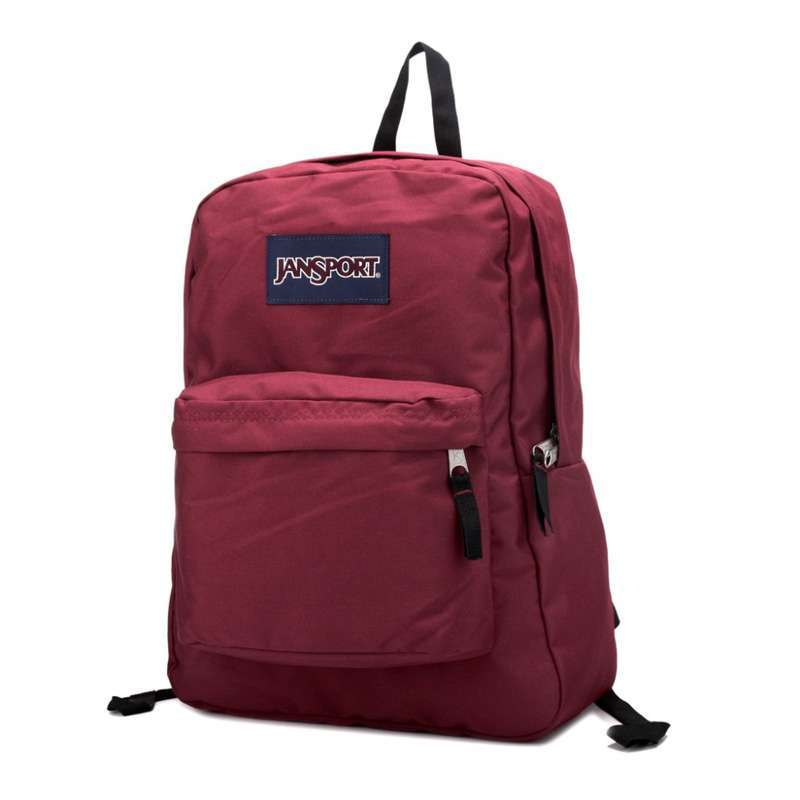luggage: (107, 36, 678, 750)
